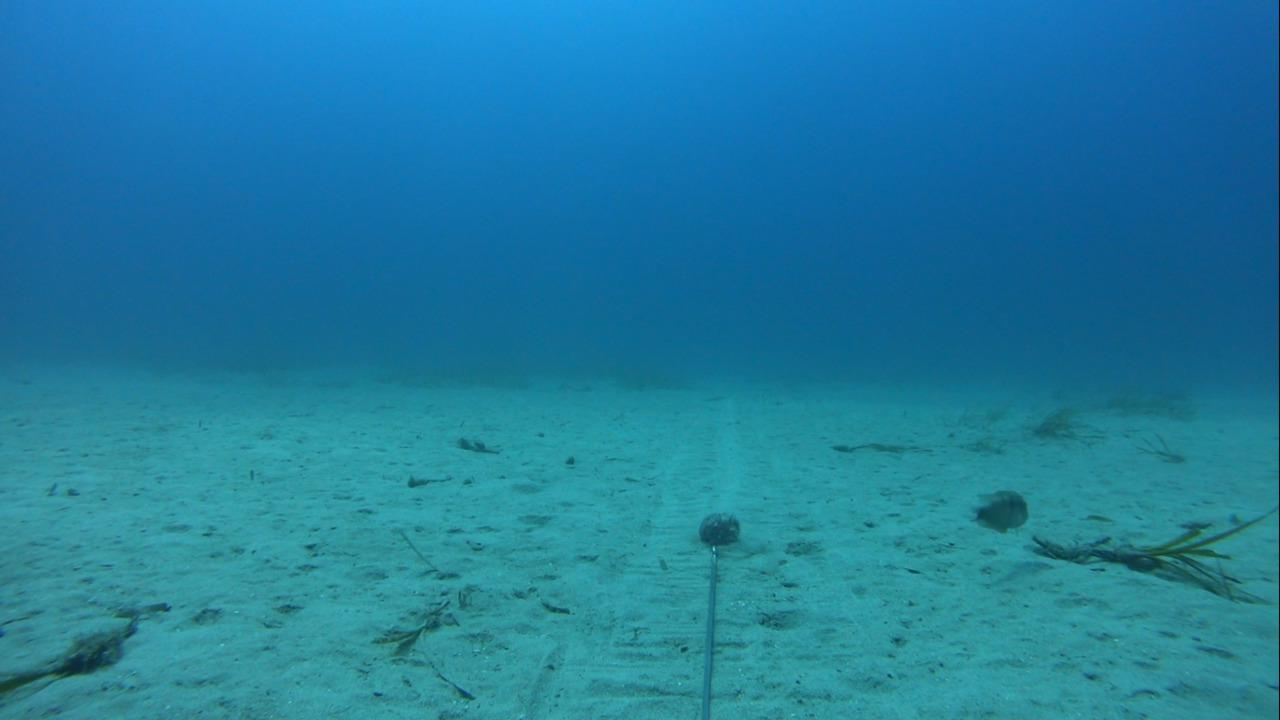raor: (965, 484, 1032, 536)
